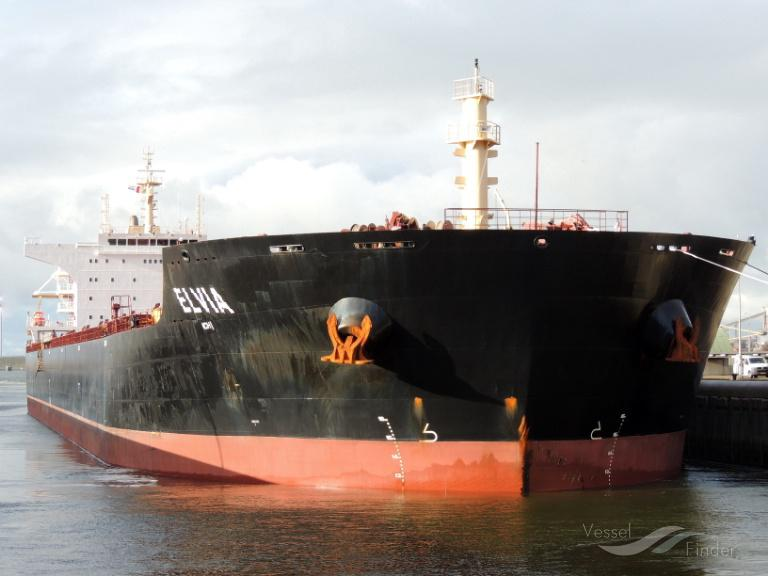OCR: (167, 280, 237, 320)
